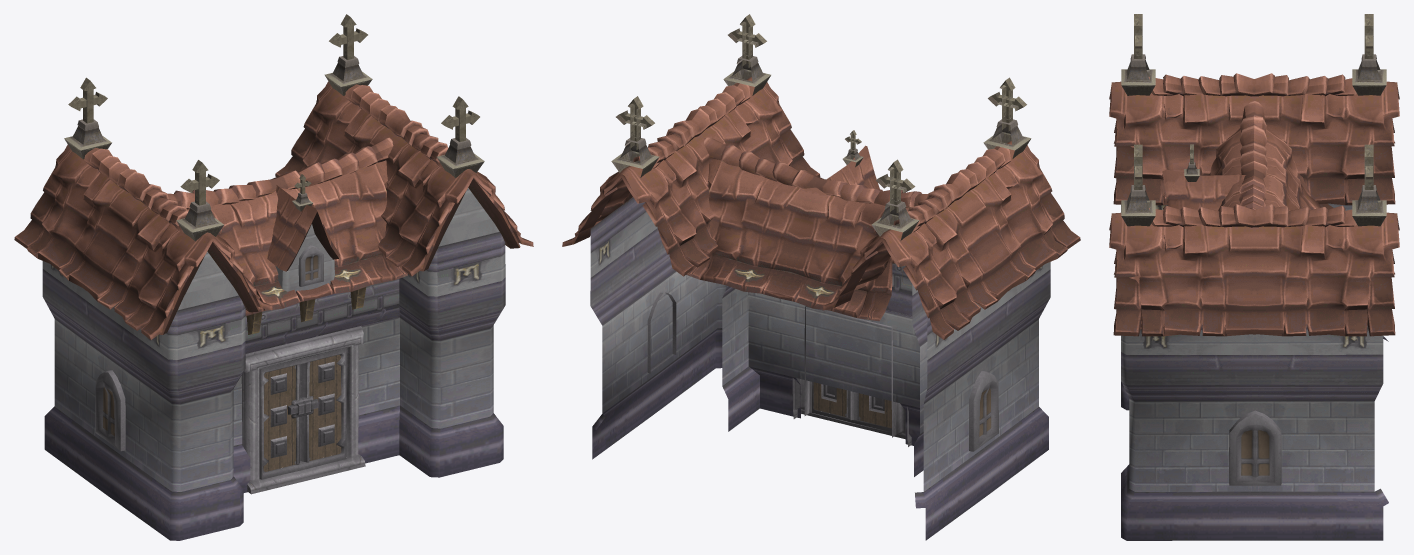
The model's file is cs_lobbynew02_minfang.FBX.
3 views of the same model, side by side, from view 1: azimuth 30°, elevation 25°; view 2: azimuth 150°, elevation 25°; view 3: azimuth 270°, elevation 25° (orthographic). The views are drawn at different scales.
Visible parts, largest first — view 1: cs_lobbynew02_minfang; view 2: cs_lobbynew02_minfang; view 3: cs_lobbynew02_minfang.
Part boxes in pixels (x1,y1,x2,y2): cs_lobbynew02_minfang: (14,14,533,540); cs_lobbynew02_minfang: (562,14,1080,540); cs_lobbynew02_minfang: (1109,14,1399,540).
Bounding box in the file's own units: 726 × 655 × 457.
Materials: 1 (1 with a texture image).
